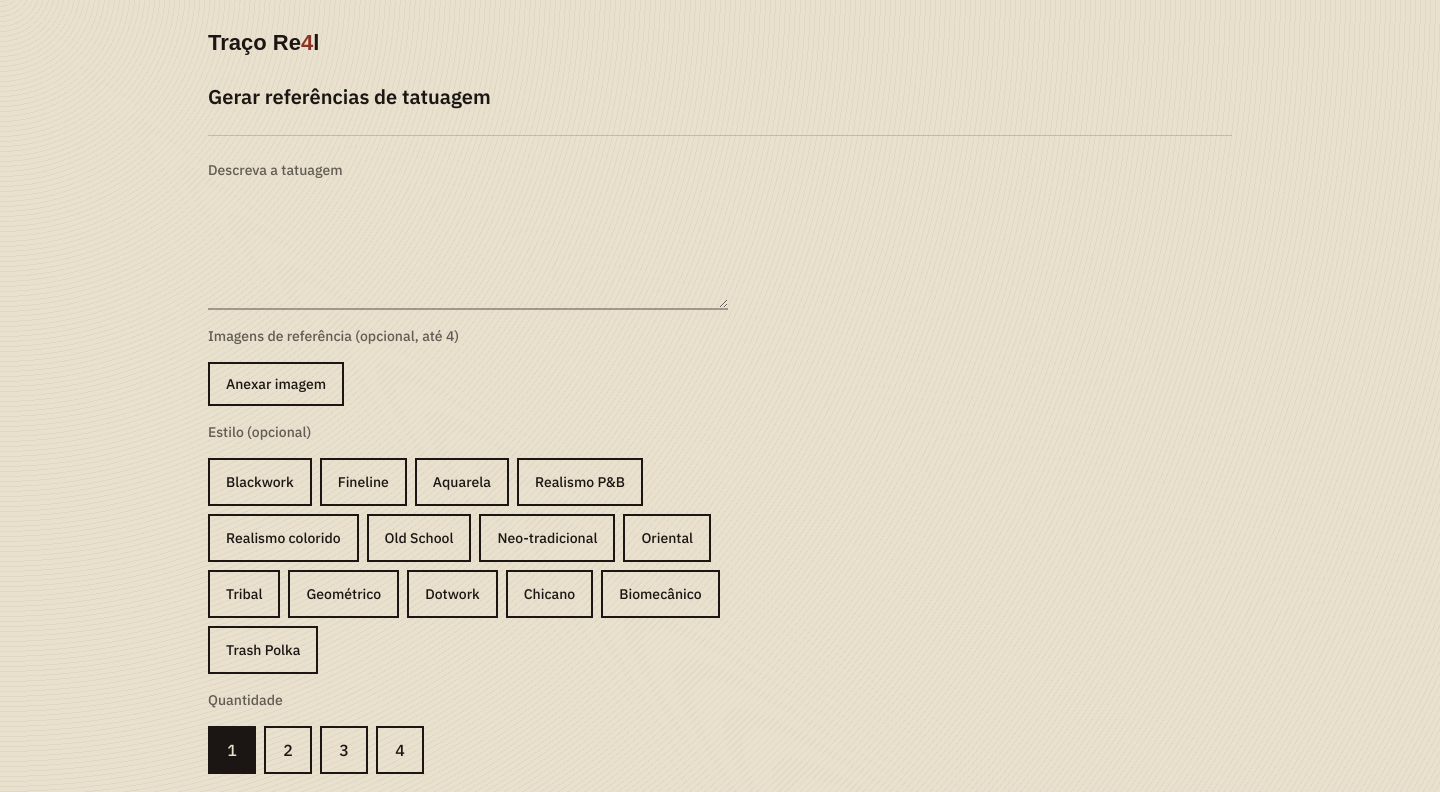
Home › mostra o aviso quando a geracao e parcial
Type "um dragão em aquarela" into the text box labelled "Descreva a tatuagem" at (468, 253), box [208,196,728,310]
(page scrolled)
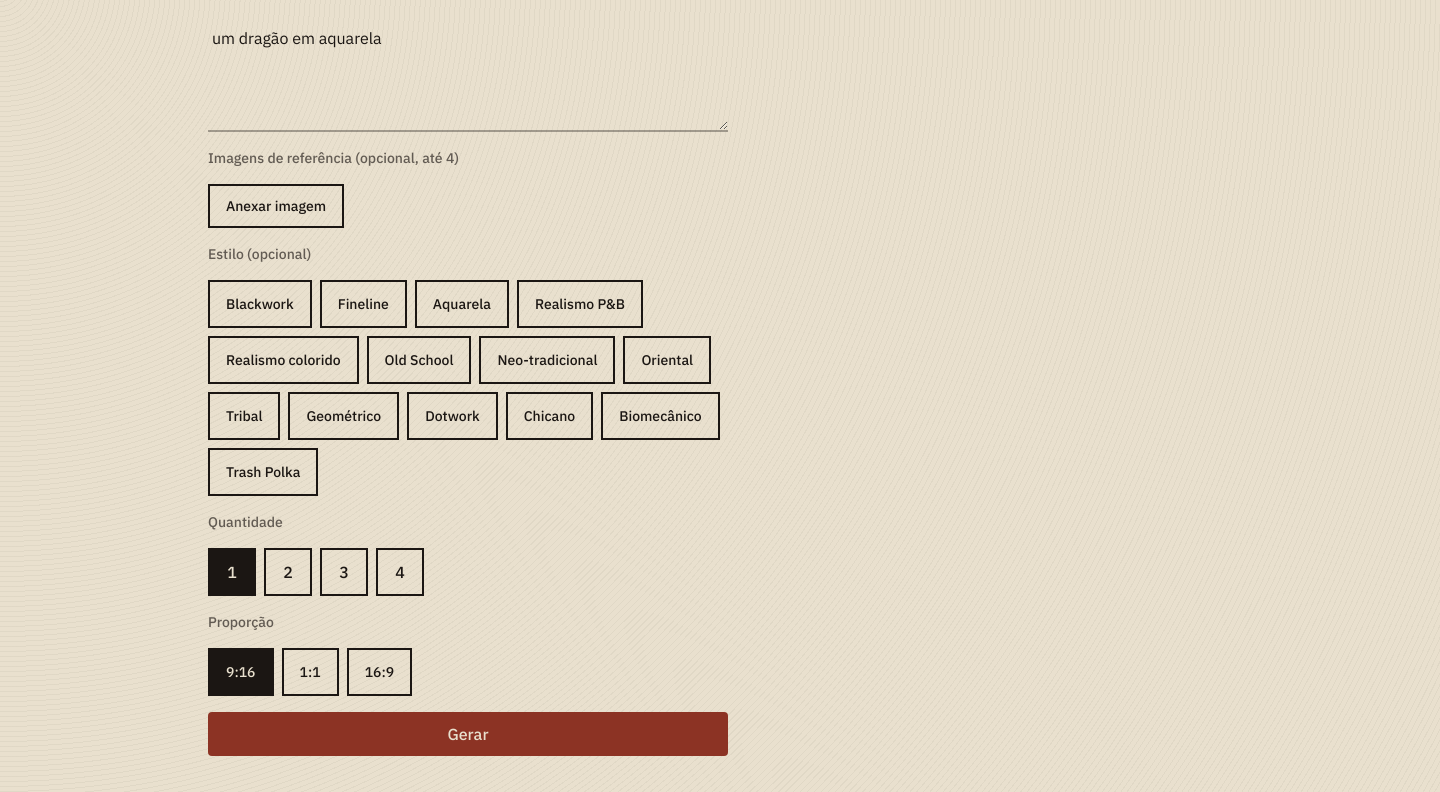
Click the button "Gerar" at (468, 734), box [208,712,728,756]
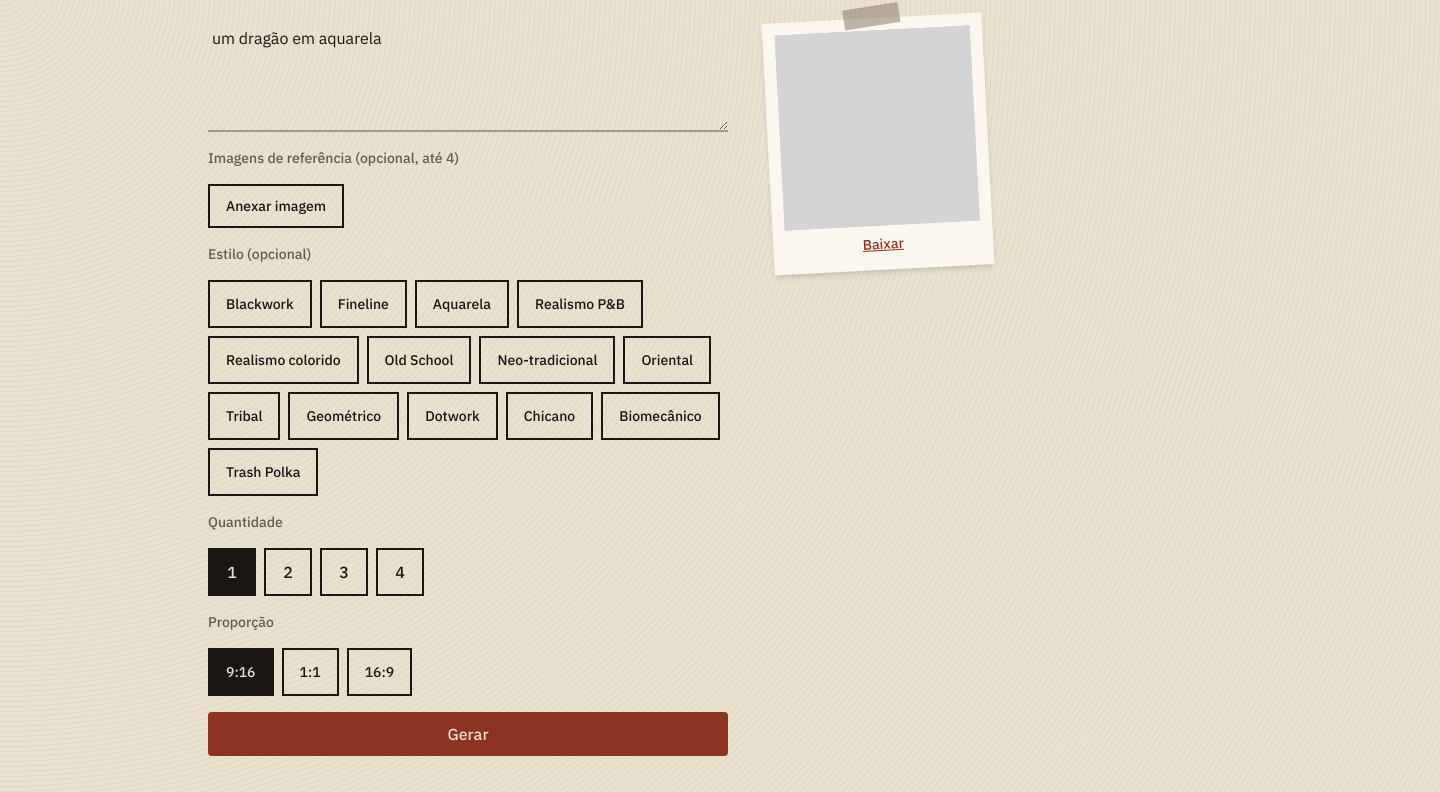
Expected: the link "Baixar" is shown, [862,234,904,254]
